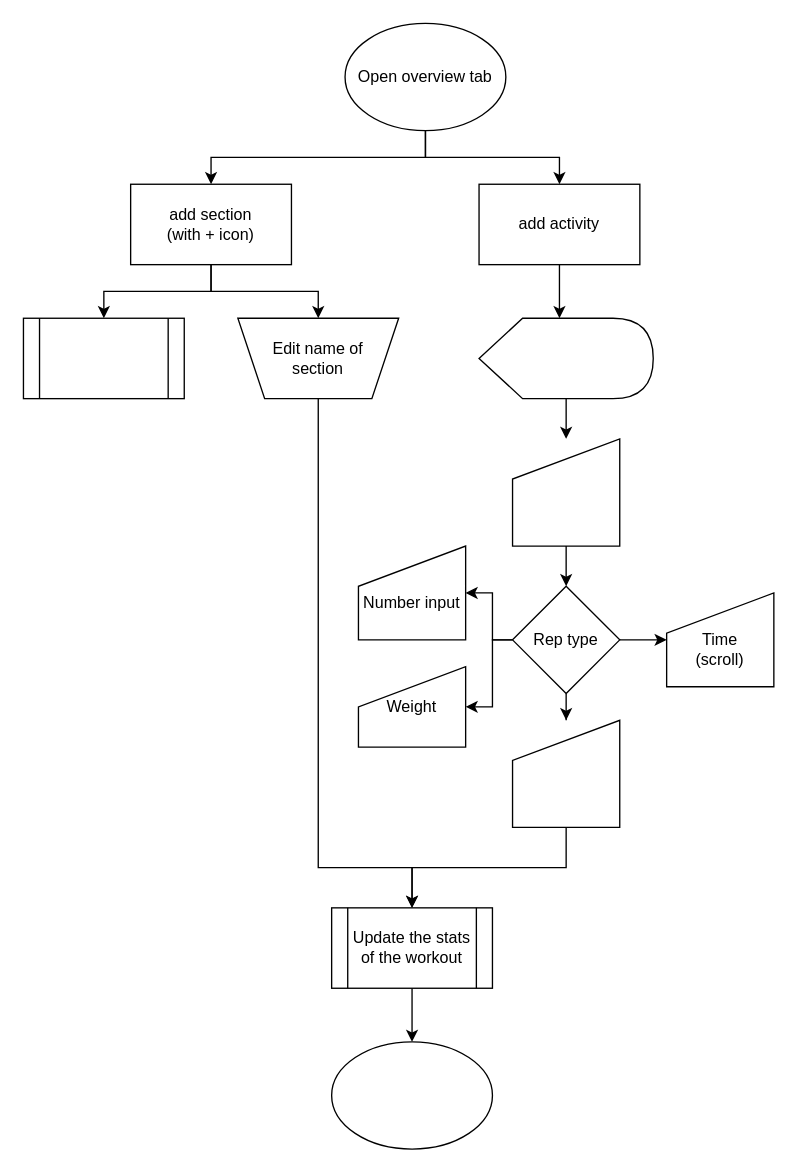
Image size: 797x1173. Some labels were removed from this diagram. Each missing label, with the centre of its shape:
"Breaks between reps (scroll)" belongs at (565,773).
"Create a partition between secitons" belongs at (103,358).
"Edit sections: activity name Muscles tageted" belongs at (565,492).
"End/ To total stats page" belongs at (411,1095).
"Show the pop up for editing sections" belongs at (565,358).
